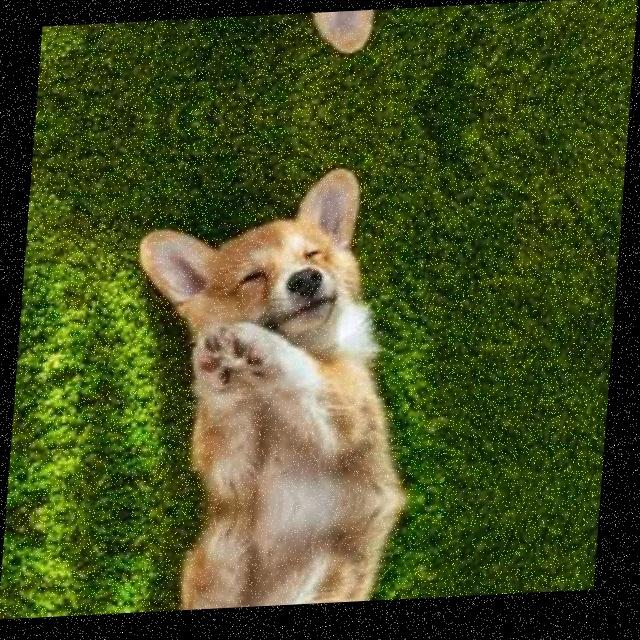dog: (124, 143, 404, 381), (146, 8, 414, 84)
